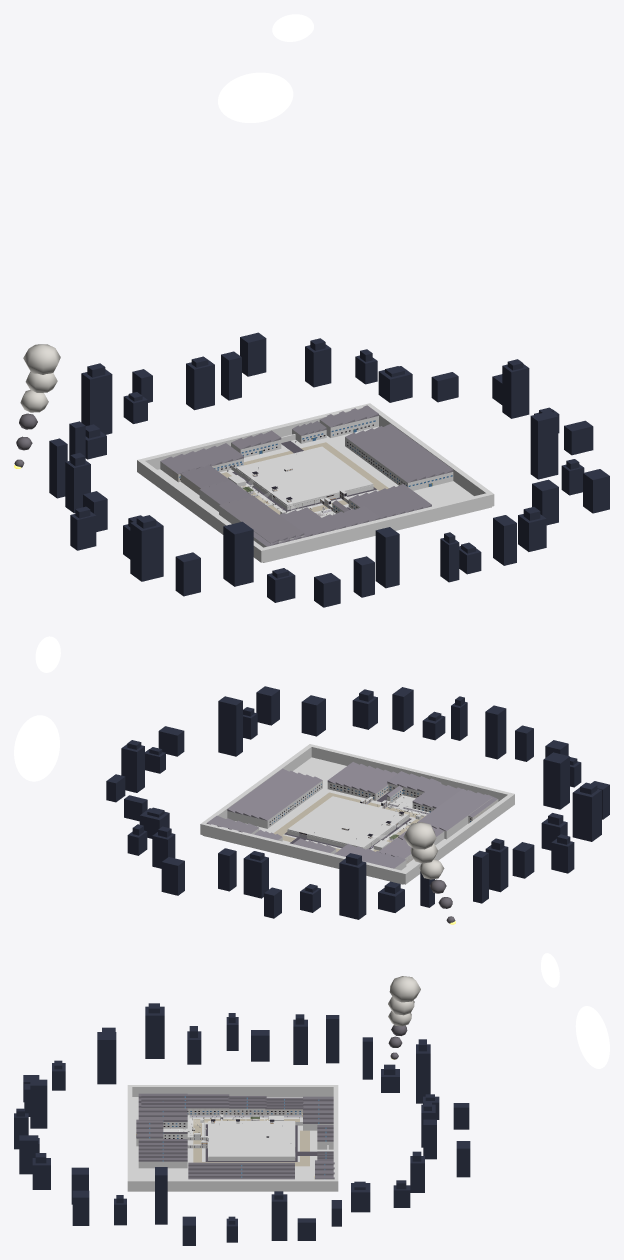
File: m5_camp.glb
3 views of the same model, one above another, from view 1: azimuth 30°, elevation 25°; view 2: azimuth 150°, elevation 25°; view 3: azimuth 270°, elevation 25° (orthographic). The views are drawn at different scales.
Visible parts, largest first — view 1: skyline_far_n_far, outside_roof_detail, TRIG_camp_inside, COL_outside_277, skyline_moon_fine, COL_ground_001, skyline_smoke_l, COL_outside_275, COL_outside_278, COL_outside_276, ground_pave_d_detail, COL_outside_271 (+1 smaller); view 2: skyline_far_n_far, outside_roof_detail, TRIG_camp_inside, skyline_moon_fine, COL_outside_278, COL_ground_001, COL_outside_277, COL_outside_275, skyline_smoke_l, COL_outside_276, ground_pave_d_detail, COL_outside_271 (+2 smaller); view 3: skyline_far_n_far, outside_roof_detail, TRIG_camp_inside, COL_outside_276, COL_ground_001, COL_outside_275, skyline_moon_fine, skyline_smoke_l, ground_pave_d_detail, COL_outside_277, COL_outside_278, outside_concrete.
Part boxes in pixels (left/top/right/bottom): skyline_far_n_far: left=49, top=332, right=609, bottom=607; outside_roof_detail: left=160, top=405, right=453, bottom=546; TRIG_camp_inside: left=236, top=446, right=373, bottom=505; COL_outside_277: left=258, top=492, right=494, bottom=561; skyline_moon_fine: left=218, top=14, right=312, bottom=122; COL_ground_001: left=157, top=426, right=491, bottom=562; skyline_smoke_l: left=20, top=344, right=60, bottom=412; COL_outside_275: left=137, top=459, right=266, bottom=562; COL_outside_278: left=137, top=403, right=372, bottom=471; COL_outside_276: left=368, top=403, right=494, bottom=507; ground_pave_d_detail: left=221, top=442, right=388, bottom=514; COL_outside_271: left=345, top=437, right=453, bottom=490; skyline_far_n_far: left=106, top=686, right=609, bottom=919; outside_roof_detail: left=206, top=762, right=497, bottom=868; TRIG_camp_inside: left=287, top=796, right=408, bottom=848; skyline_moon_fine: left=14, top=636, right=60, bottom=781; COL_outside_278: left=200, top=824, right=407, bottom=884; COL_ground_001: left=202, top=757, right=467, bottom=884; COL_outside_277: left=308, top=744, right=513, bottom=801; COL_outside_275: left=401, top=793, right=514, bottom=884; skyline_smoke_l: left=403, top=822, right=444, bottom=879; COL_outside_276: left=200, top=744, right=312, bottom=835; ground_pave_d_detail: left=273, top=792, right=424, bottom=851; COL_outside_271: left=227, top=780, right=322, bottom=828; skyline_far_n_far: left=14, top=1003, right=470, bottom=1245; outside_roof_detail: left=136, top=1093, right=334, bottom=1179; TRIG_camp_inside: left=208, top=1121, right=294, bottom=1157; COL_outside_276: left=127, top=1179, right=338, bottom=1191; COL_ground_001: left=132, top=1097, right=333, bottom=1179; COL_outside_275: left=127, top=1085, right=338, bottom=1096; skyline_moon_fine: left=541, top=953, right=609, bottom=1068; skyline_smoke_l: left=388, top=976, right=420, bottom=1026; ground_pave_d_detail: left=193, top=1119, right=309, bottom=1166; COL_outside_277: left=127, top=1085, right=132, bottom=1191; COL_outside_278: left=333, top=1085, right=338, bottom=1191; outside_concrete: left=188, top=1108, right=302, bottom=1129.
Bounding box in the file's own units: 387 × 229 × 480.
